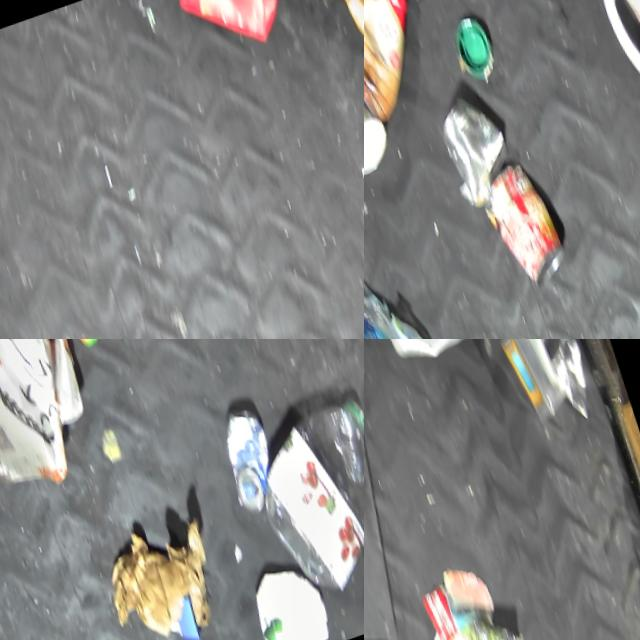can: (466, 156, 568, 302), (428, 89, 520, 218), (202, 402, 287, 535)
non_white_jug: (163, 0, 316, 79), (364, 339, 495, 385)
plastic_bottle: (226, 387, 364, 624)
